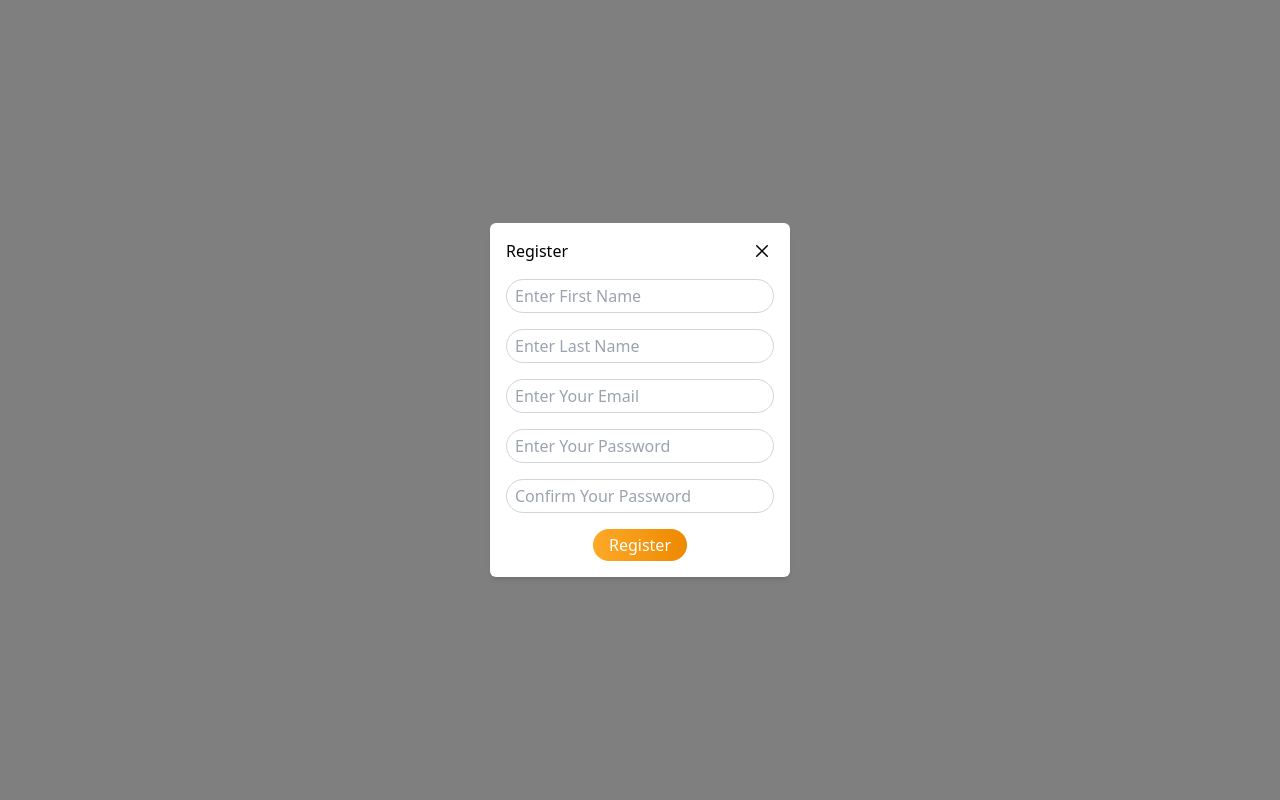
Test: RegisterPopUp Component › handles registration failure
The width and height of the screenshot is (1280, 800).
Type "John" into the field with placeholder "Enter First Name" at x=640, y=296, box top-left (506, 279), bottom-right (774, 313)
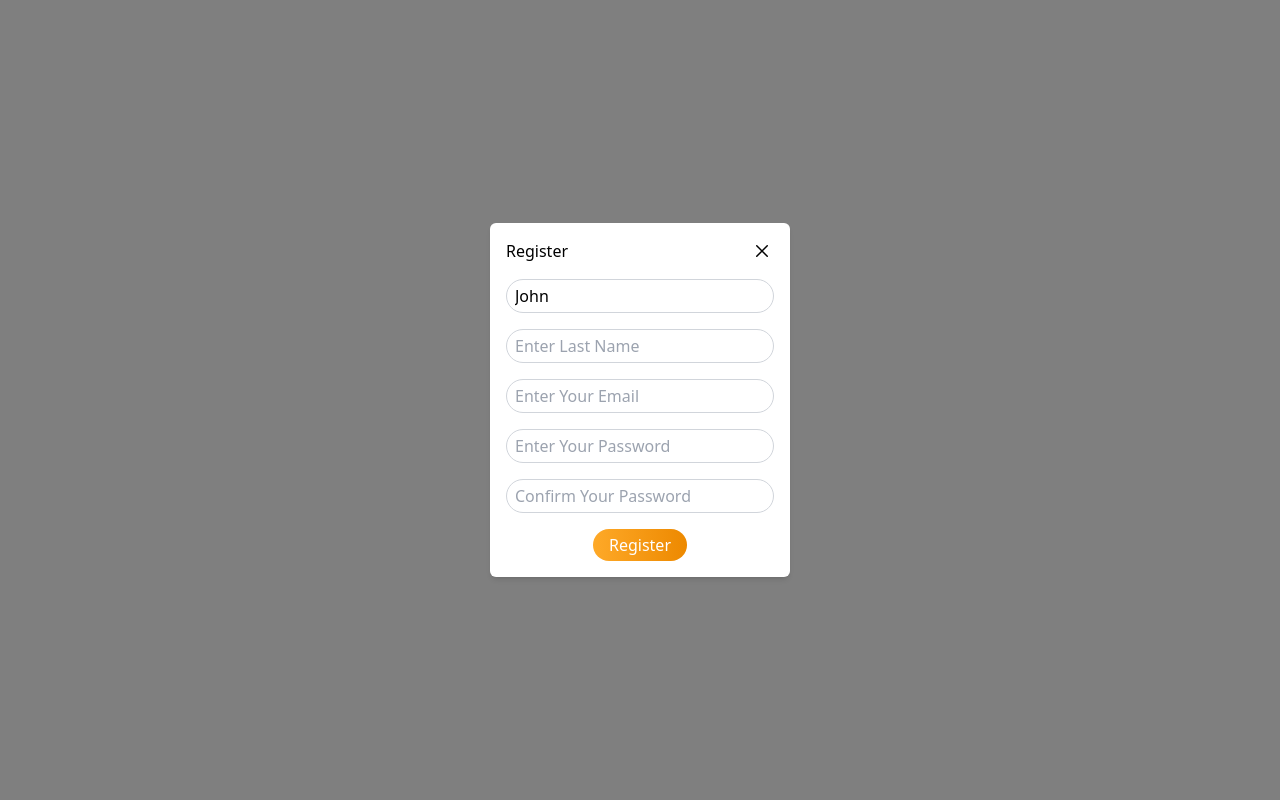
Type "Doe" into the field with placeholder "Enter Last Name" at x=640, y=346, box top-left (506, 329), bottom-right (774, 363)
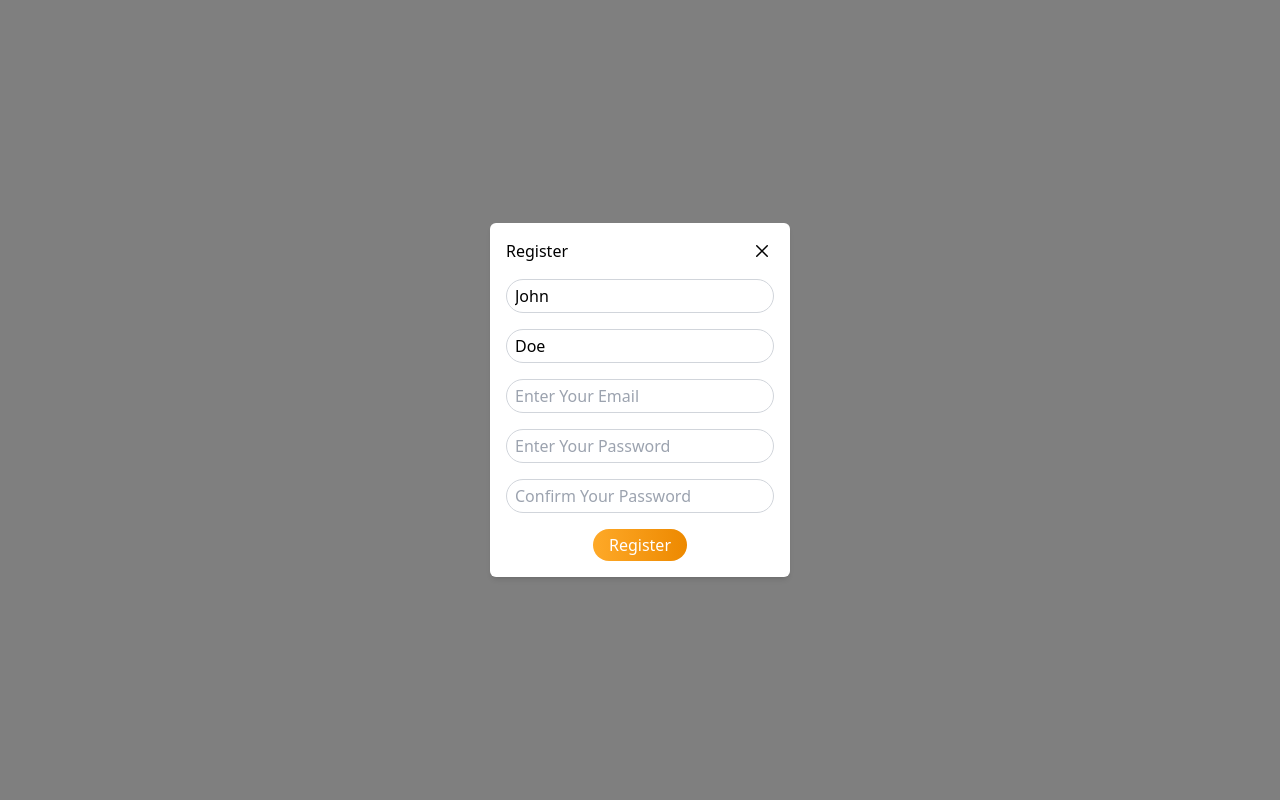
Type "john.doe@example.com" into the field with placeholder "Enter Your Email" at x=640, y=396, box top-left (506, 379), bottom-right (774, 413)
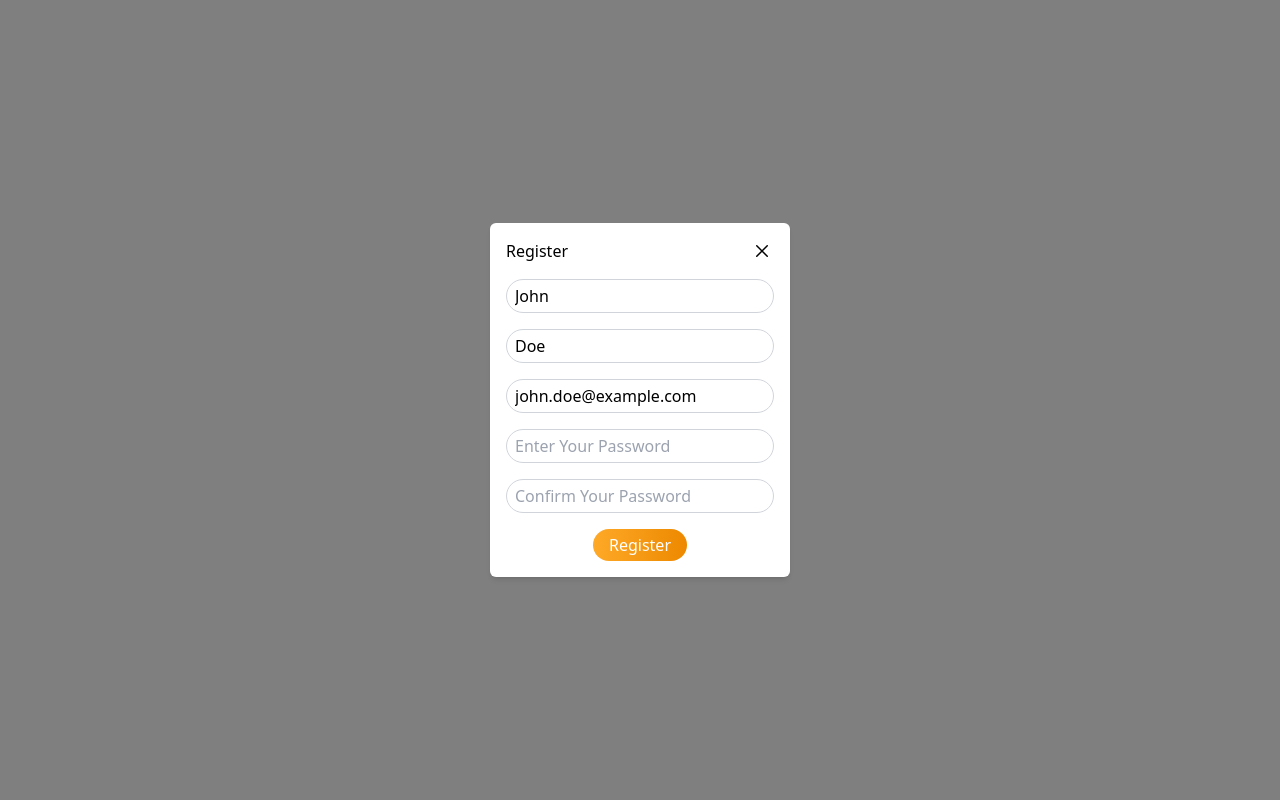
Type "password123" into the password field with placeholder "Enter Your Password" at x=640, y=446, box top-left (506, 429), bottom-right (774, 463)
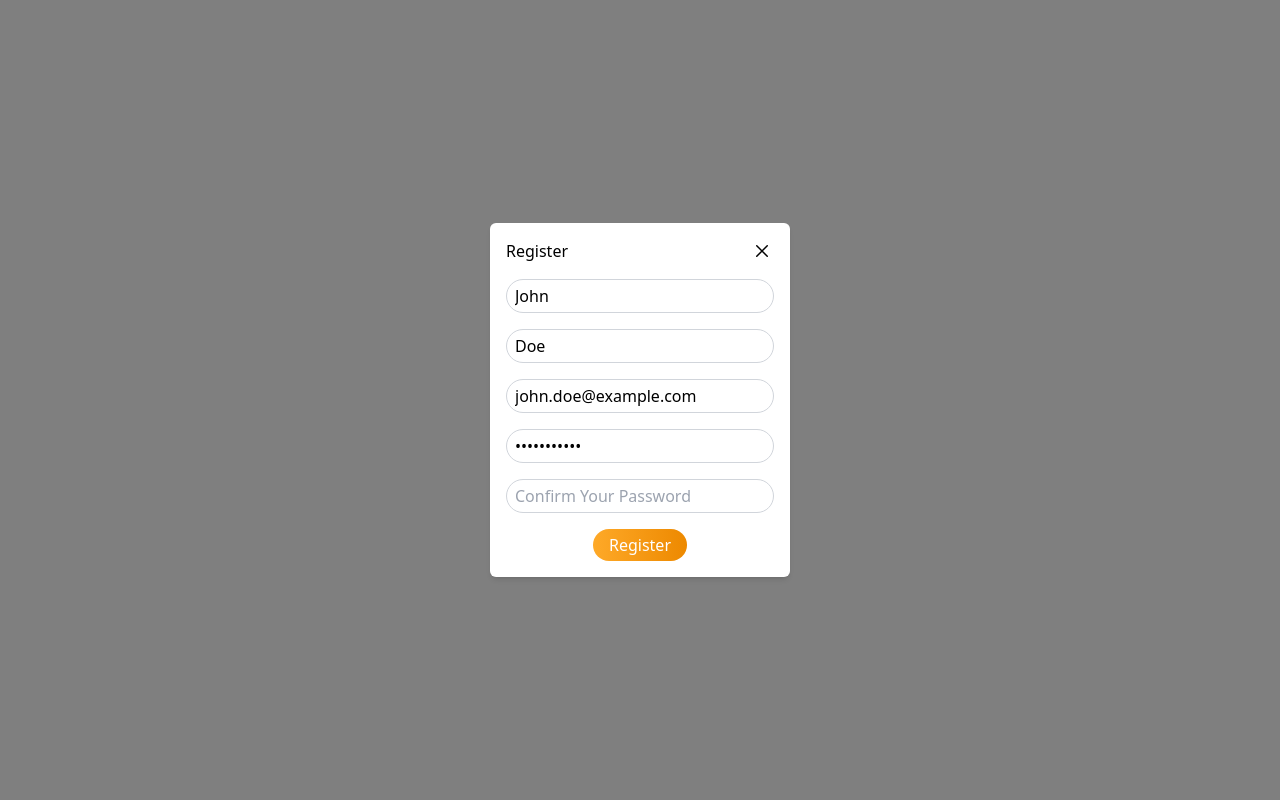
Type "password123" into the password field with placeholder "Confirm Your Password" at x=640, y=496, box top-left (506, 479), bottom-right (774, 513)
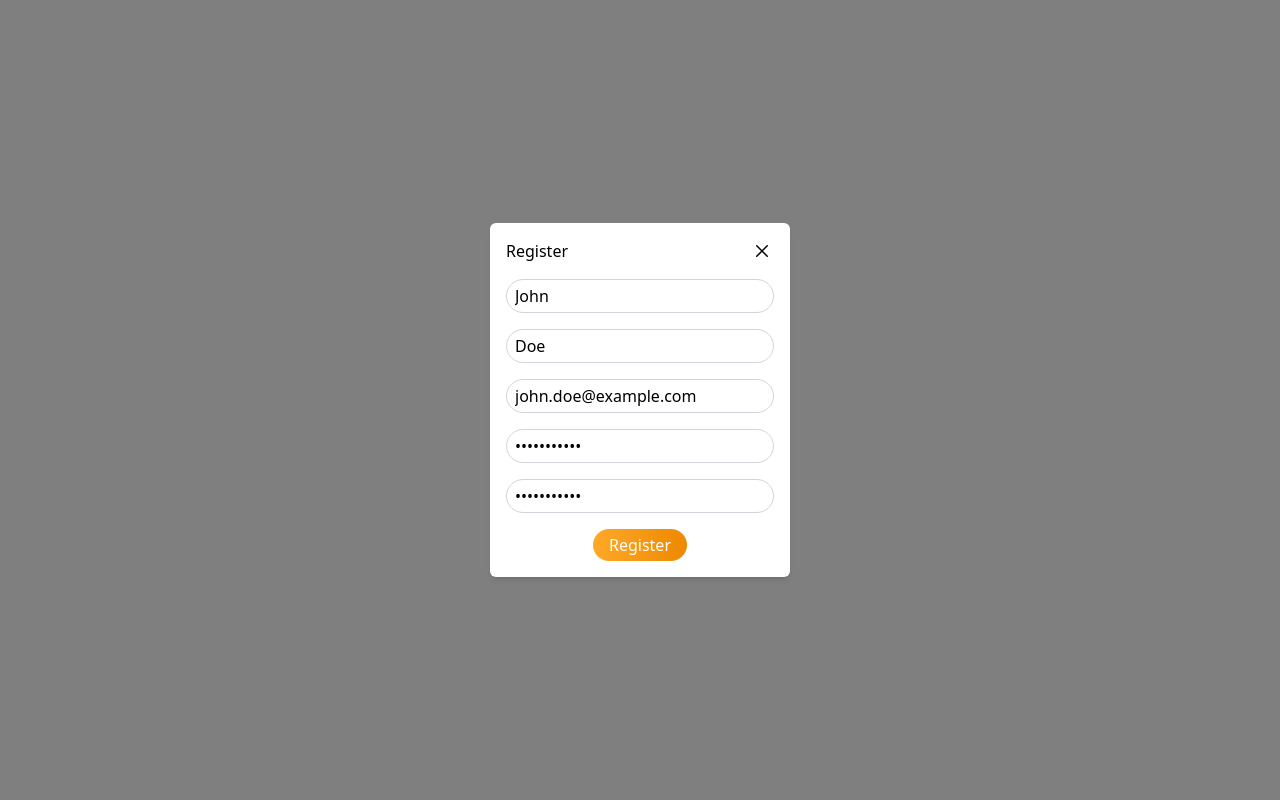
Submit the form from the button "Register", box top-left (593, 529), bottom-right (687, 561)
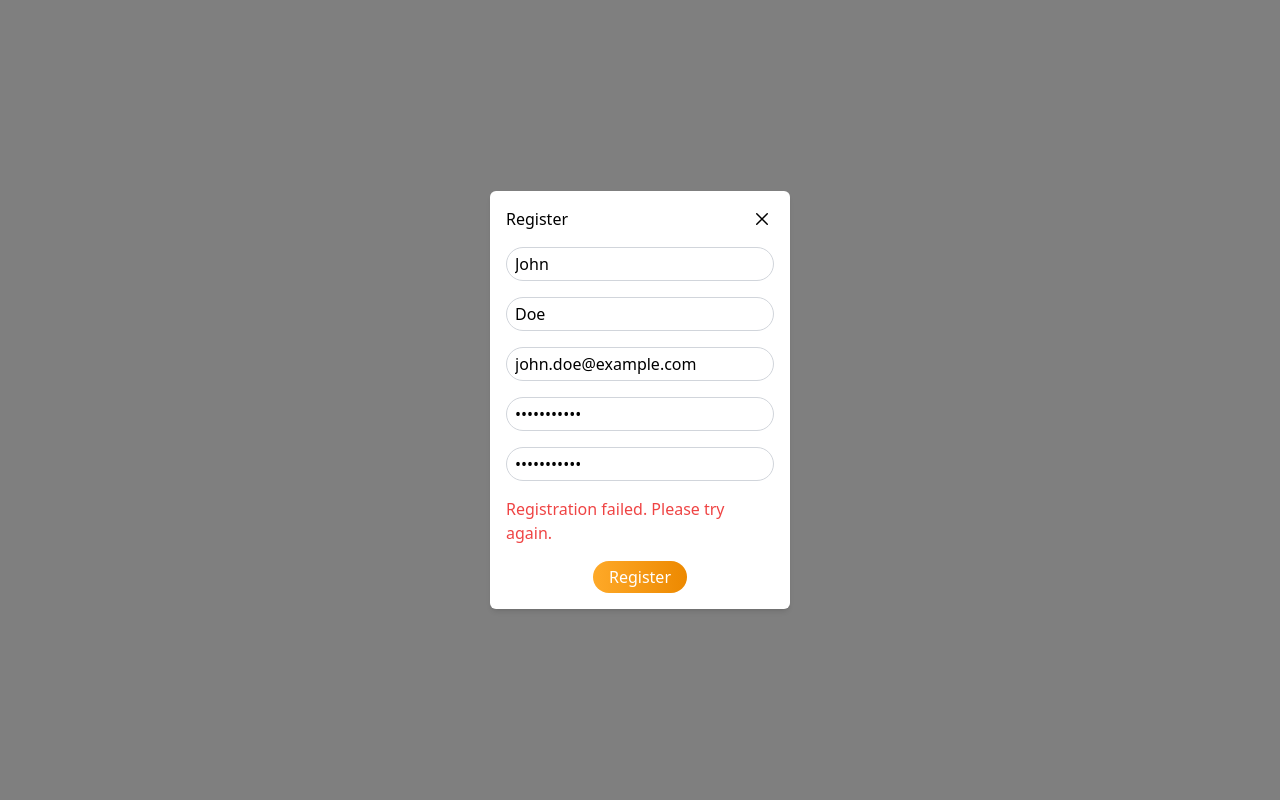
Expected: the text "Registration failed. Please try again." is shown, top-left (506, 498), bottom-right (724, 544)
